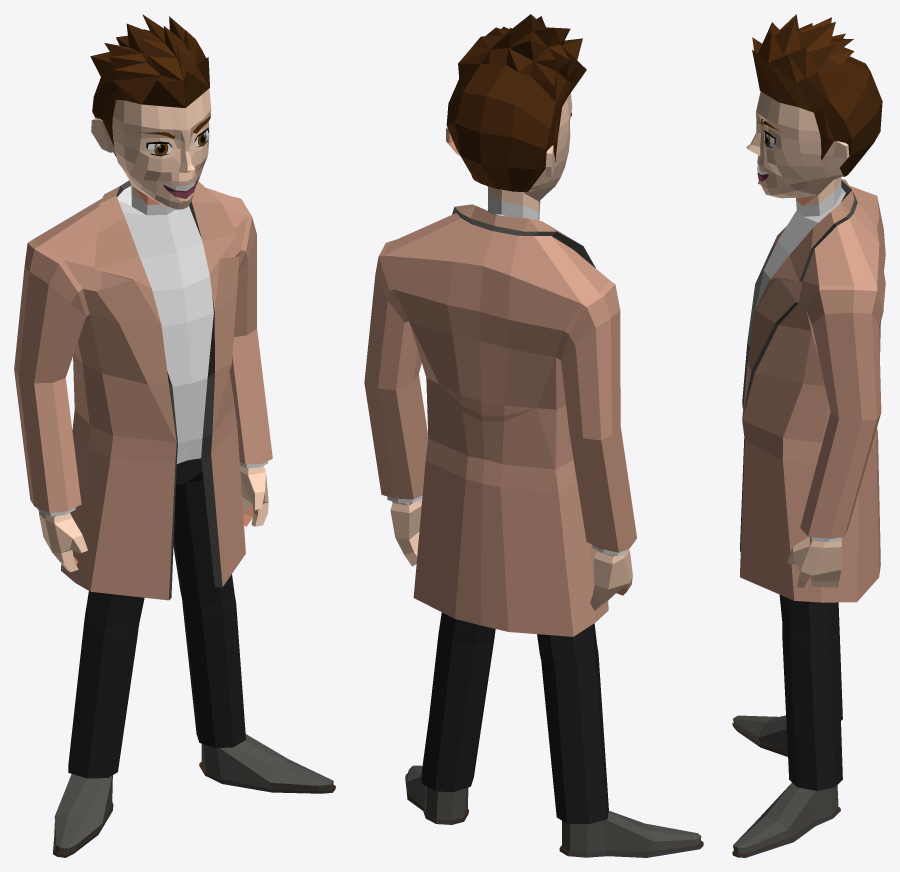
The model's file is Low_Poly_Boy.glb.
3 views of the same model, side by side, from view 1: azimuth 30°, elevation 25°; view 2: azimuth 150°, elevation 25°; view 3: azimuth 270°, elevation 25° (orthographic). The views are drawn at different scales.
Parts seen in each view (by area): view 1: unnamed (×3); view 2: unnamed (×3); view 3: unnamed (×3).
Boxes of the visible parts, x1=… form: unnamed (×3): x1=14, y1=14, x2=335, y2=857; unnamed (×3): x1=364, y1=14, x2=703, y2=857; unnamed (×3): x1=732, y1=14, x2=885, y2=857.
Size of the model in its own units: 1.68 by 4.47 by 0.8072.
Materials: 1 (1 with a texture image).
